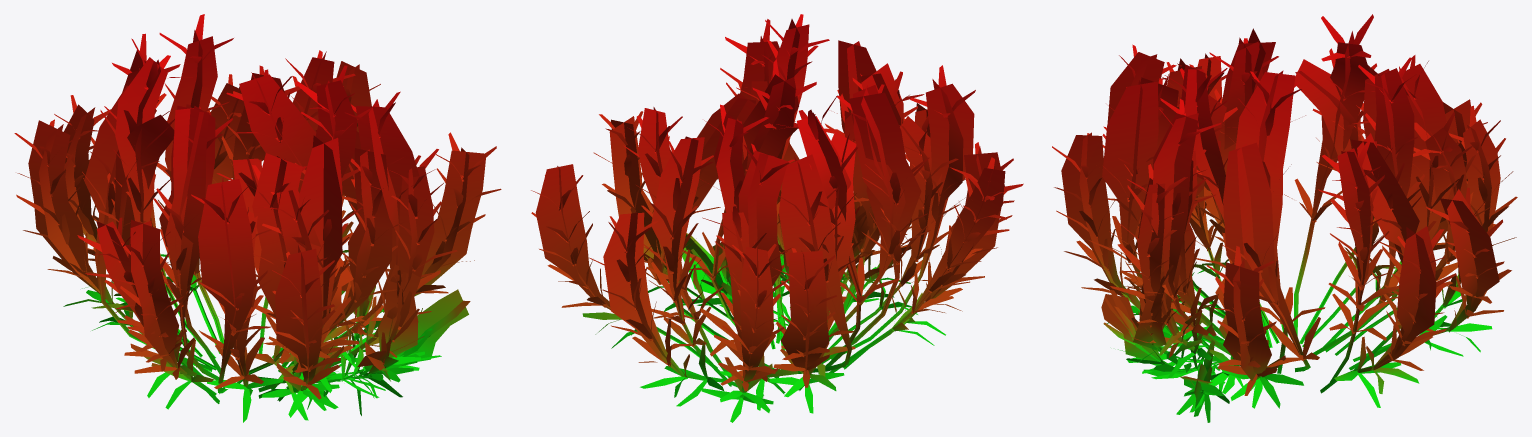
The model's file is Var8_LOD4.fbx.
3 renders of one model, left to right at view 1: azimuth 30°, elevation 25°; view 2: azimuth 150°, elevation 25°; view 3: azimuth 270°, elevation 25°, orthographic. The views are drawn at different scales.
Parts seen in each view (by area): view 1: _na9j_Var8_LOD4; view 2: _na9j_Var8_LOD4; view 3: _na9j_Var8_LOD4.
Boxes of the visible parts, box(x1,y1,x2,y2) form: _na9j_Var8_LOD4: box(14, 14, 501, 422); _na9j_Var8_LOD4: box(531, 14, 1023, 422); _na9j_Var8_LOD4: box(1052, 14, 1517, 422).
Size of the model in its own units: 38.41 by 29.81 by 37.2.
